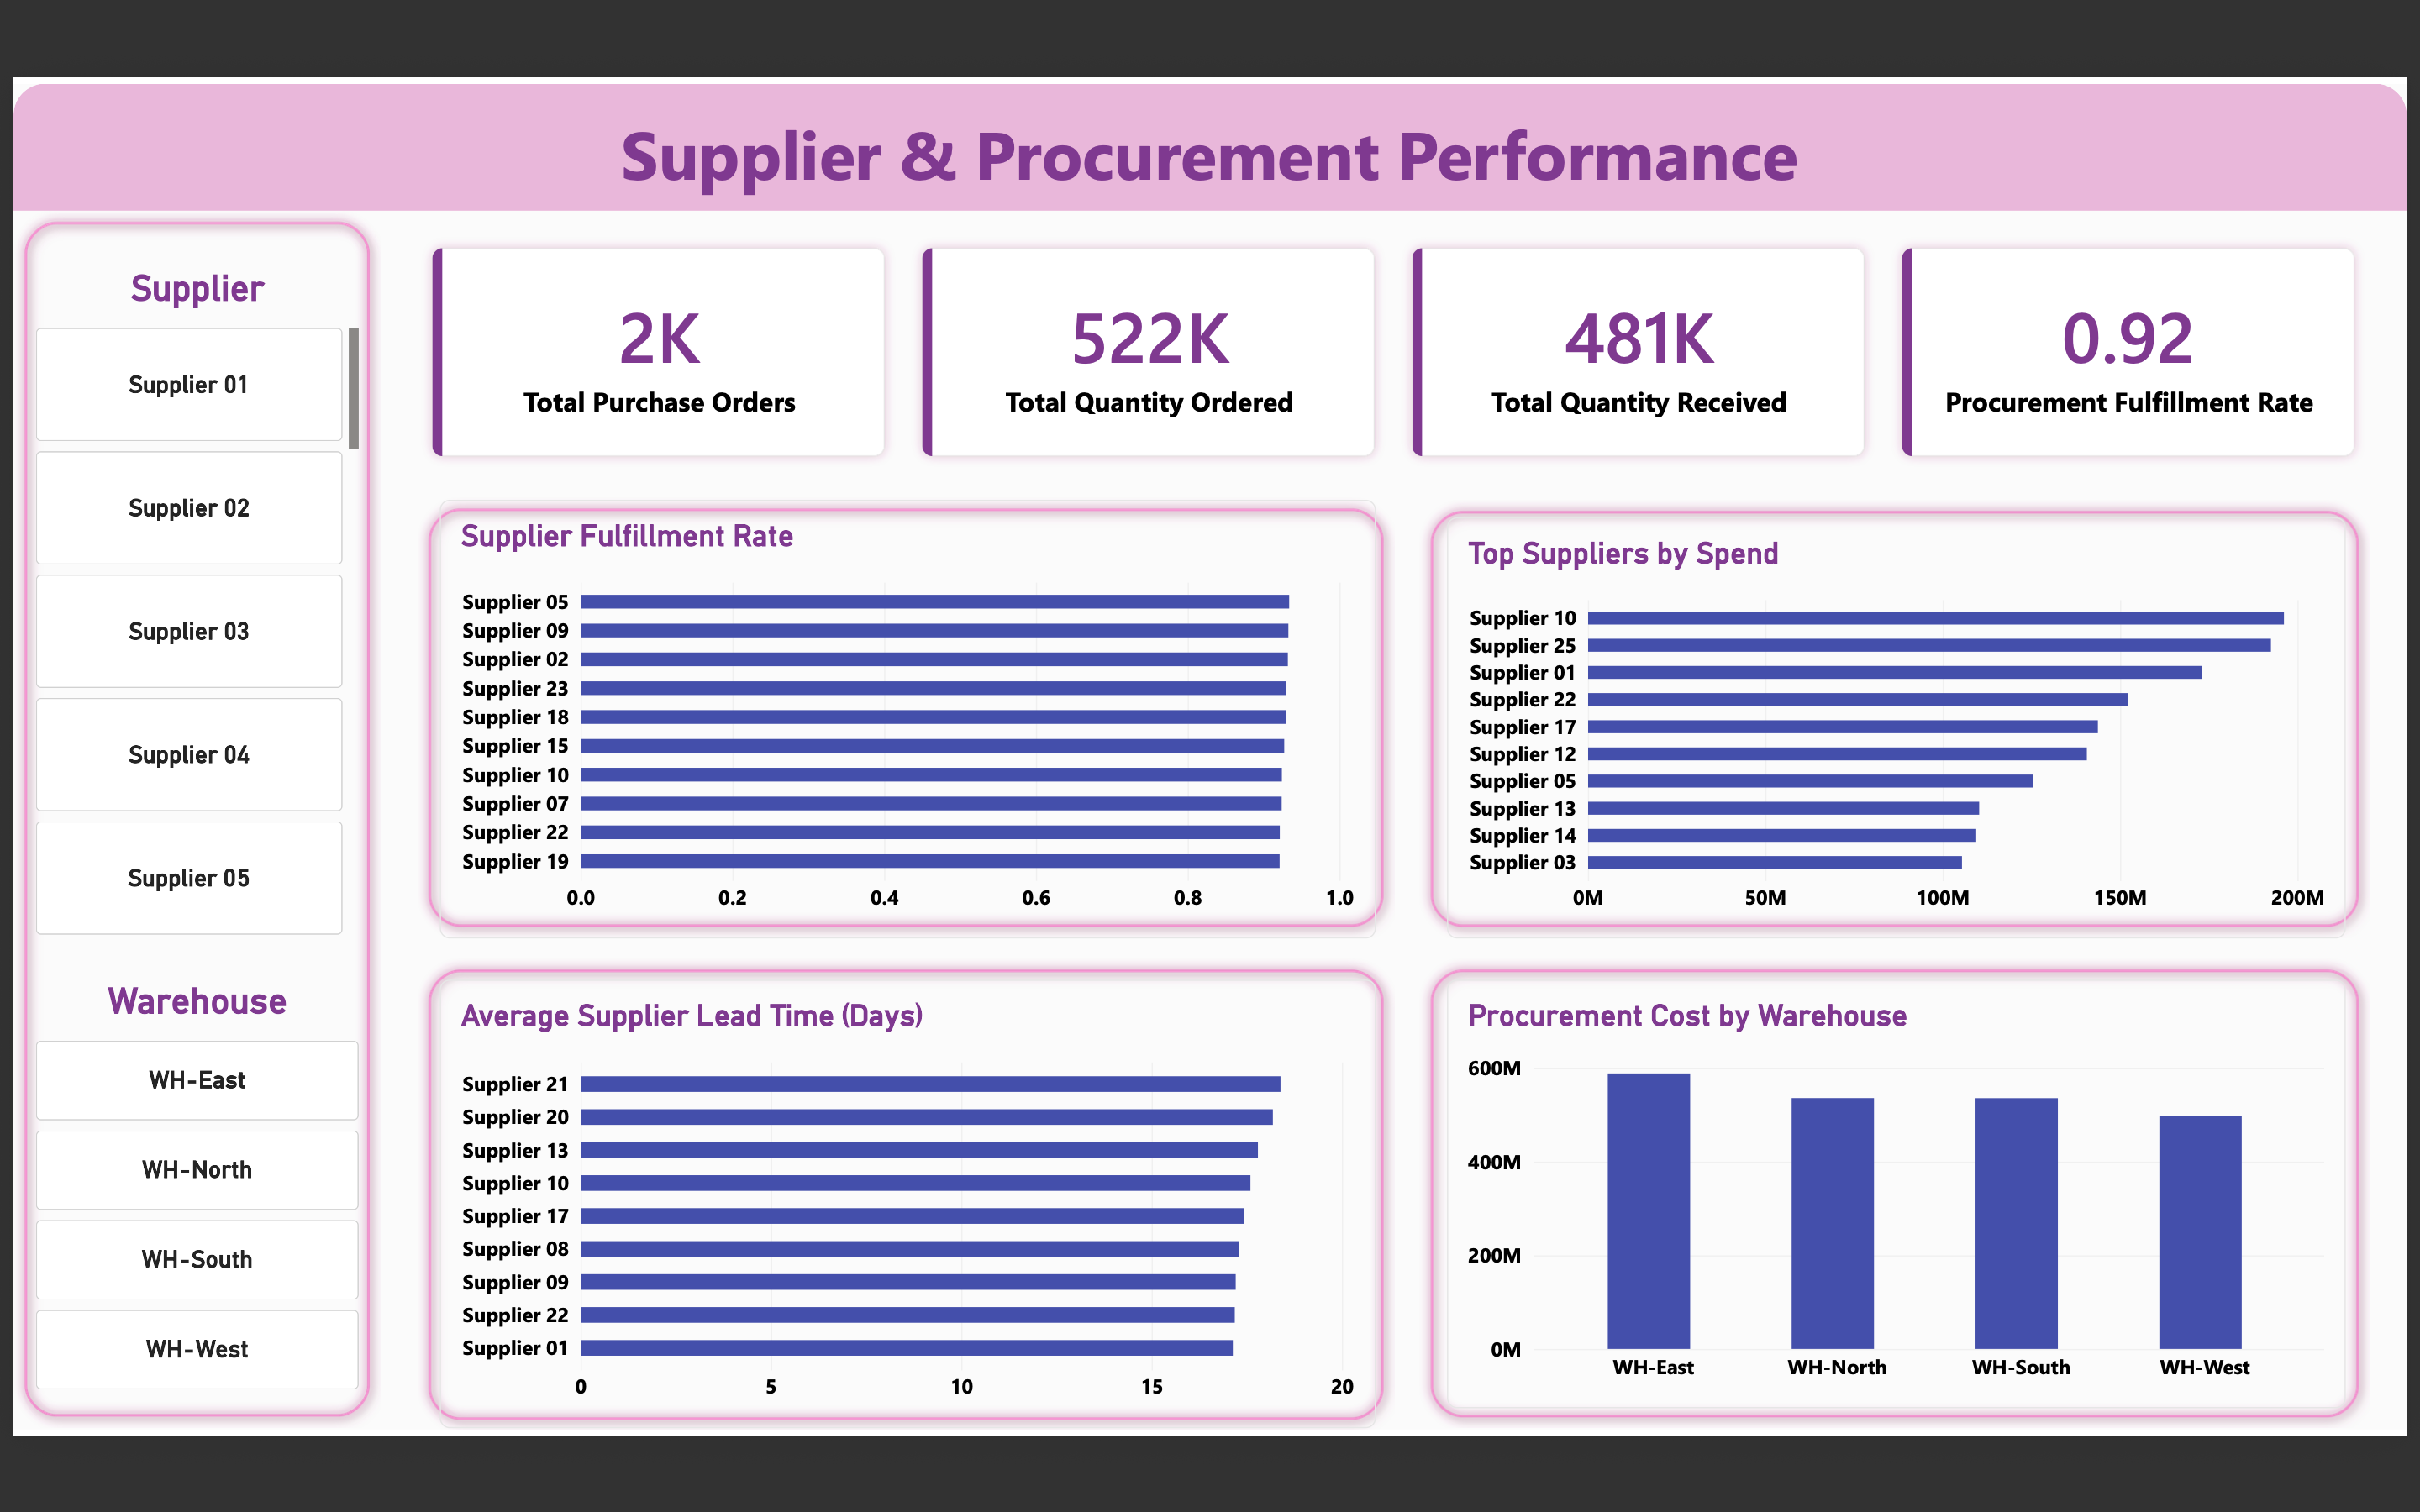

Layout of this report page (visuals, bound fields, positions):
{"tool":"powerbi","page":{"name":"Supplier & Procurement Performance","canvas":[1920,1080],"ordinal":2},"visuals":[{"type":"shape","box":[0,0,1920,102.1],"z":0},{"type":"cardVisual","fields":{"Data":["Procurement.Total Purchase Orders","Procurement.Total Quantity Ordered","Procurement.Total Quantity Received","Procurement.Procurement Fulfillment Rate"]},"box":[325.1,121,1566.4,189.9],"z":1},{"type":"shape","box":[0,102.2,294.8,976.7],"z":2},{"type":"shape","box":[324.3,701.6,784.1,379.3],"z":3},{"type":"shape","box":[1128,701.6,762.5,377.3],"z":4},{"type":"shape","box":[1128,334.1,762.5,351.8],"z":5},{"type":"shape","box":[324.3,332.1,784.1,353.7],"z":6},{"type":"clusteredBarChart","title":" Top Suppliers by Spend ","fields":{"Category":["Suppliers.supplier_name"],"Y":["Procurement.Total Procurement Cost"]},"box":[1149.6,347.8,721.2,338],"z":7},{"type":"clusteredBarChart","title":"Supplier Fulfillment Rate ","fields":{"Category":["Suppliers.supplier_name"],"Y":["Procurement.Procurement Fulfillment Rate"]},"box":[341.9,334.1,750.7,351.8],"z":8},{"type":"clusteredBarChart","title":" Average Supplier Lead Time (Days) ","fields":{"Category":["Suppliers.supplier_name"],"Y":["Procurement.Average Lead Time"]},"box":[341.9,719.3,750.7,359.6],"z":9},{"type":"clusteredColumnChart","title":"Procurement Cost by Warehouse","fields":{"Category":["Procurement.warehouse"],"Y":["Procurement.Total Procurement Cost"]},"box":[1149.6,719.3,721.2,343.9],"z":10},{"type":"advancedSlicerVisual","title":"Warehouse","fields":{"Values":["Procurement.warehouse"]},"box":[17.7,719.3,259.4,330.2],"z":13},{"type":"advancedSlicerVisual","title":"Supplier","fields":{"Values":["Suppliers.supplier_name"]},"box":[17.7,147.4,259.4,538.5],"z":14}]}

Visuals, with their boxes on the page's 1920x1080 design canvas (x1, y1, x2, y2). These are canvas units, not pixel positions in the 2420x1512 screenshot, which may show the page scaled, cropped or inside an application window:
shape: 0/0/1920/102
cardVisual - Procurement.Total Purchase Orders x Procurement.Total Quantity Ordered: 325/121/1892/311
shape: 0/102/295/1079
shape: 324/702/1108/1081
shape: 1128/702/1890/1079
shape: 1128/334/1890/686
shape: 324/332/1108/686
" Top Suppliers by Spend " clusteredBarChart: 1150/348/1871/686
"Supplier Fulfillment Rate " clusteredBarChart: 342/334/1093/686
" Average Supplier Lead Time (Days) " clusteredBarChart: 342/719/1093/1079
"Procurement Cost by Warehouse" clusteredColumnChart: 1150/719/1871/1063
"Warehouse" advancedSlicerVisual: 18/719/277/1050
"Supplier" advancedSlicerVisual: 18/147/277/686
